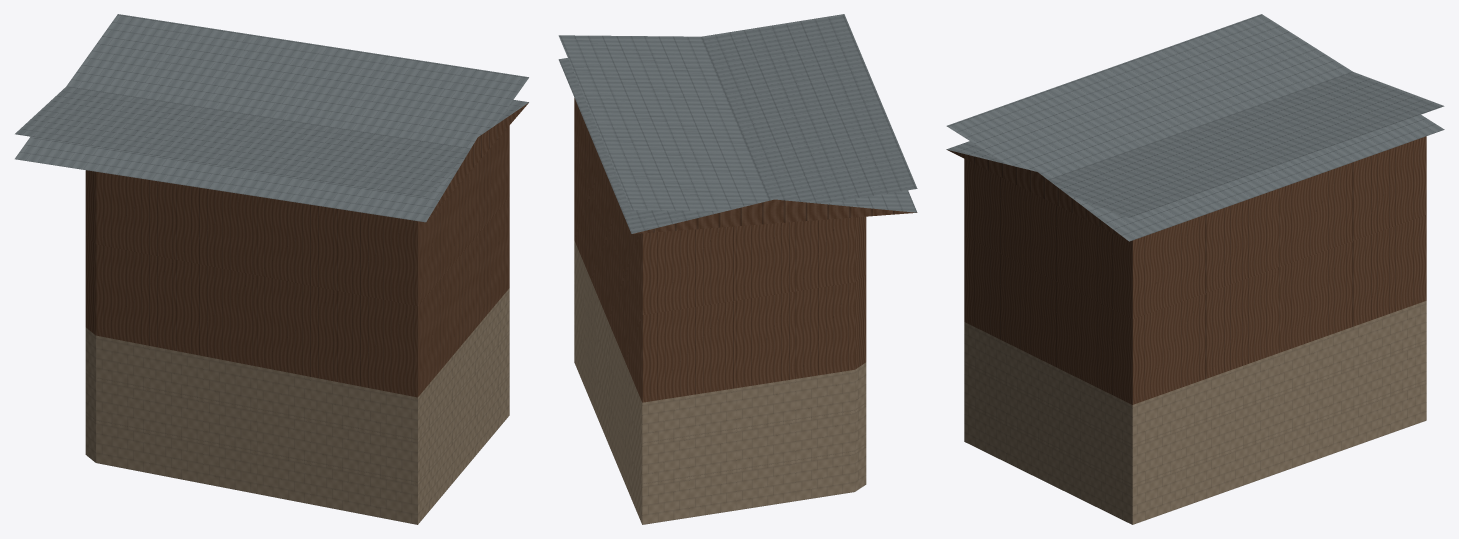
File: bld_c-9_42_522.gltf
3 renders of one model, left to right at view 1: azimuth 30°, elevation 25°; view 2: azimuth 150°, elevation 25°; view 3: azimuth 270°, elevation 25°, orthographic. The views are drawn at different scales.
Visible parts, largest first — view 1: bld_c-9_42_522; view 2: bld_c-9_42_522; view 3: bld_c-9_42_522.
Part boxes in pixels (bbox=[...]): bld_c-9_42_522: bbox=[15, 14, 528, 524]; bld_c-9_42_522: bbox=[558, 14, 917, 524]; bld_c-9_42_522: bbox=[946, 14, 1444, 524].
Bounding box in the file's own units: 18.62 × 13.4 × 19.22.
4 materials, 4 textured.
